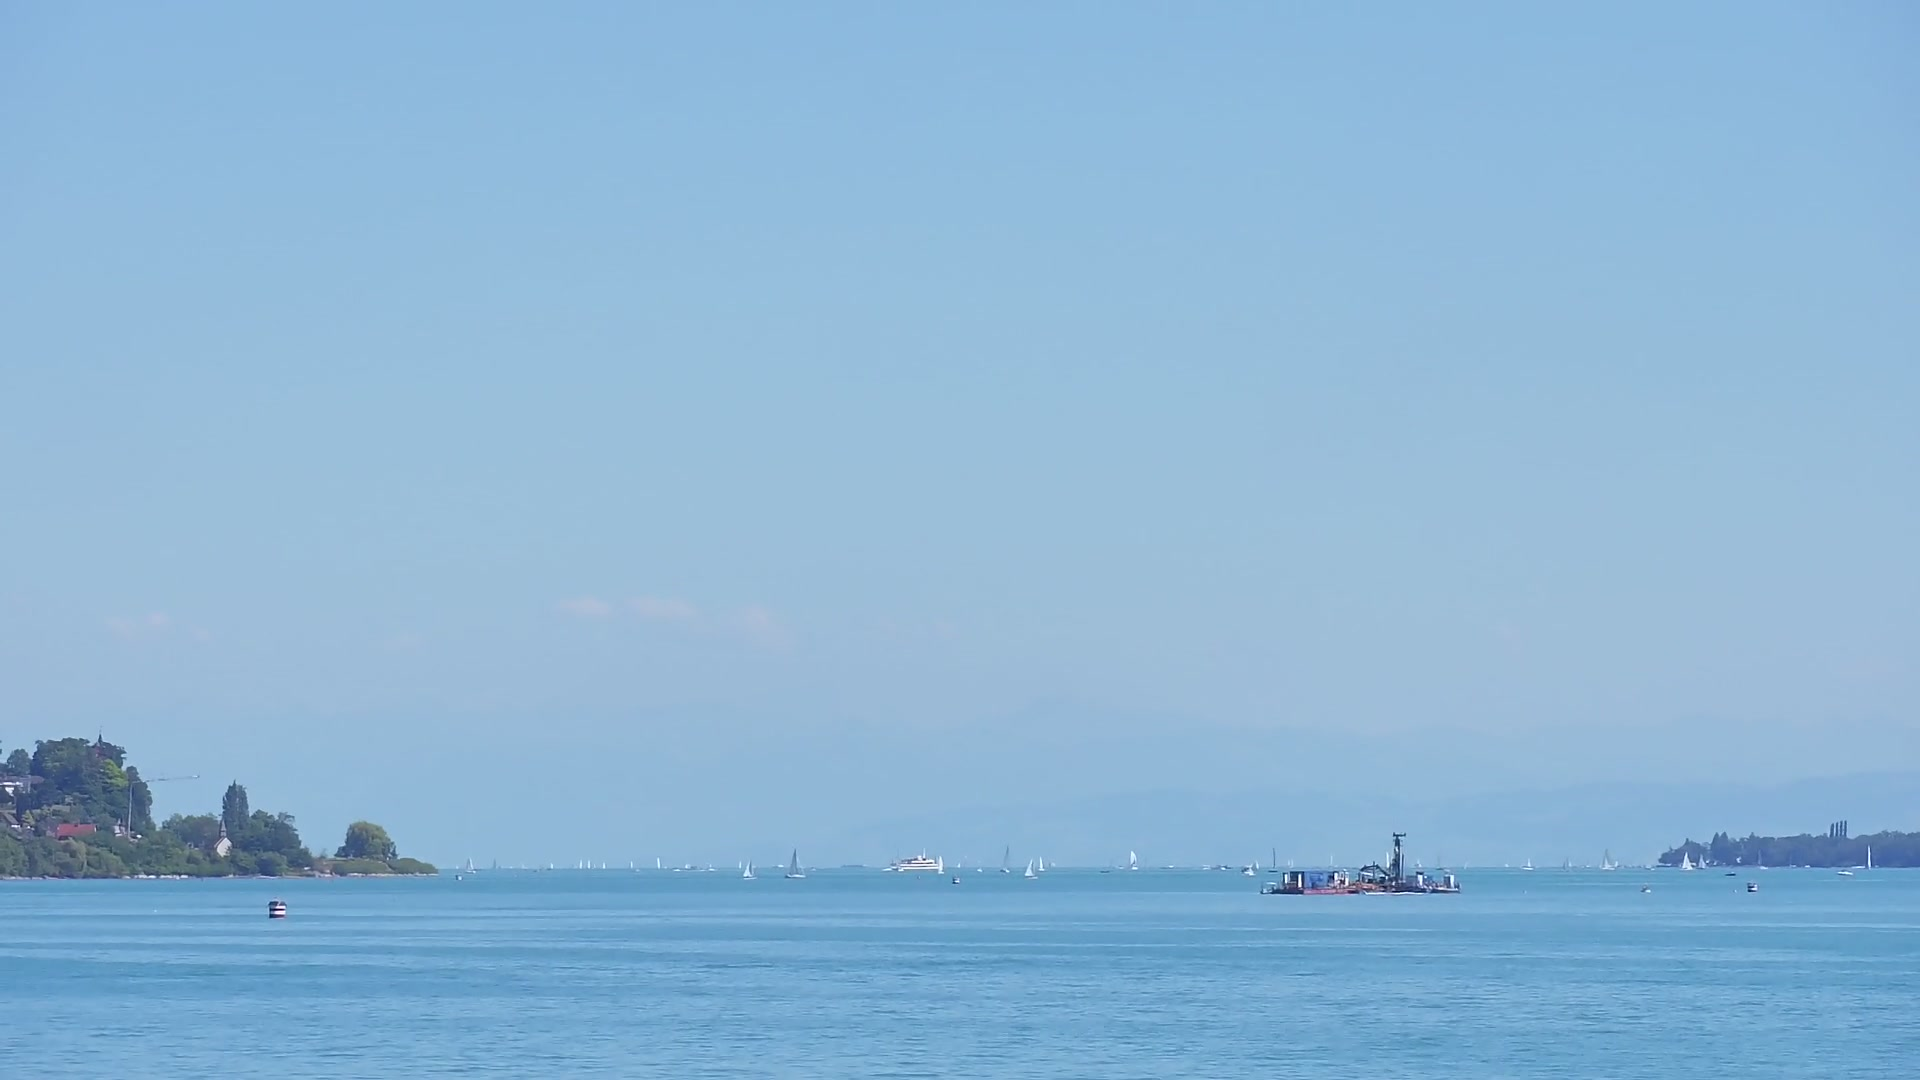sea: (890, 848, 942, 872), (785, 847, 807, 880), (1598, 848, 1617, 872), (1022, 857, 1039, 880), (1677, 851, 1695, 872), (742, 857, 757, 880), (881, 858, 905, 872), (1000, 844, 1010, 873), (1267, 848, 1278, 873), (1756, 851, 1768, 870), (1865, 844, 1873, 872), (1520, 856, 1535, 870), (1130, 851, 1139, 872), (1240, 864, 1255, 876), (1695, 855, 1706, 870), (464, 857, 475, 873), (938, 855, 945, 874), (1038, 856, 1046, 872), (1836, 869, 1853, 876), (655, 857, 662, 870), (578, 858, 583, 870), (1724, 870, 1735, 876), (585, 858, 591, 869), (547, 862, 554, 870), (629, 860, 634, 869), (603, 862, 607, 870)
